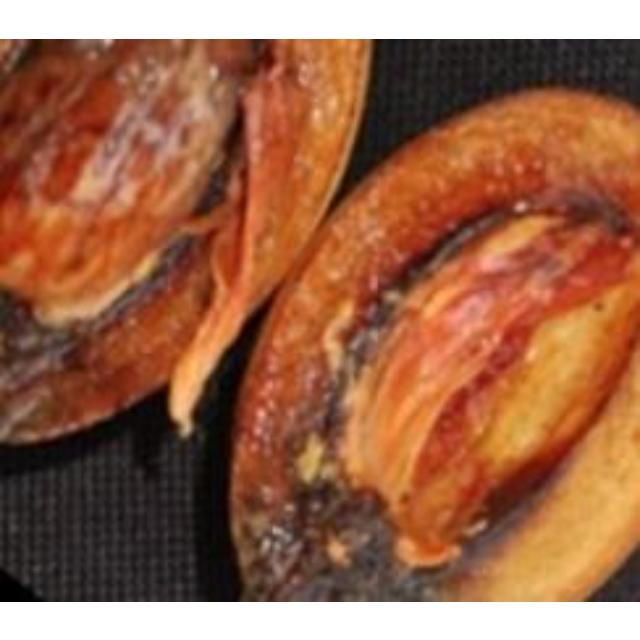damaged: (223, 85, 637, 599), (0, 38, 378, 452)
